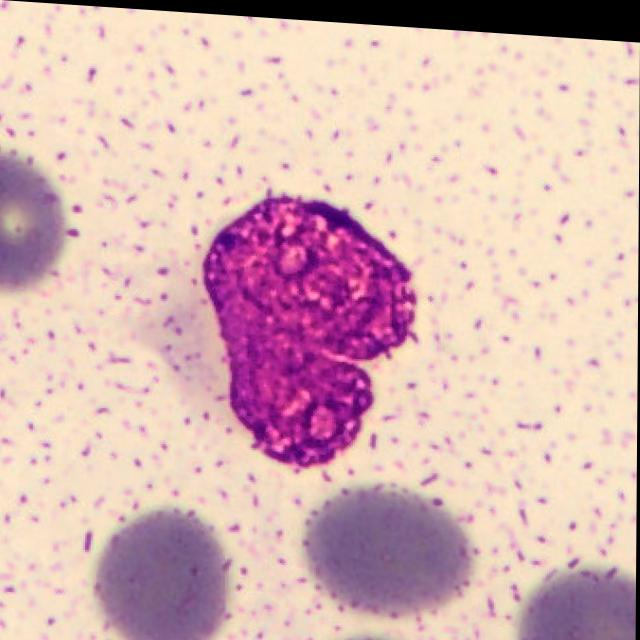Restos celulares: (201, 189, 419, 463)
